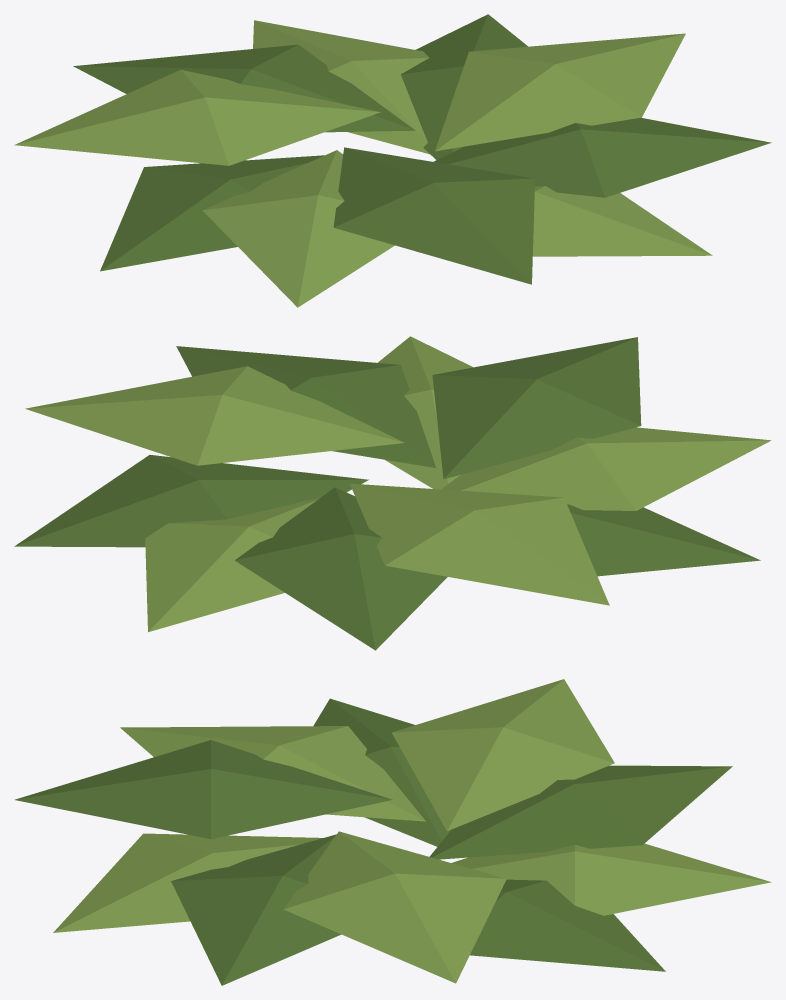
File: leaf-cover.glb
3 renders of one model, top to bottom at view 1: azimuth 30°, elevation 25°; view 2: azimuth 150°, elevation 25°; view 3: azimuth 270°, elevation 25°, orthographic. The views are drawn at different scales.
Parts seen in each view (by area): view 1: LeafCover; view 2: LeafCover; view 3: LeafCover.
Part boxes in pixels (<box>): LeafCover: <box>14,14,771,307</box>; LeafCover: <box>14,336,771,650</box>; LeafCover: <box>14,679,771,985</box>.
Size of the model in its own units: 1.99 by 0.19 by 2.
